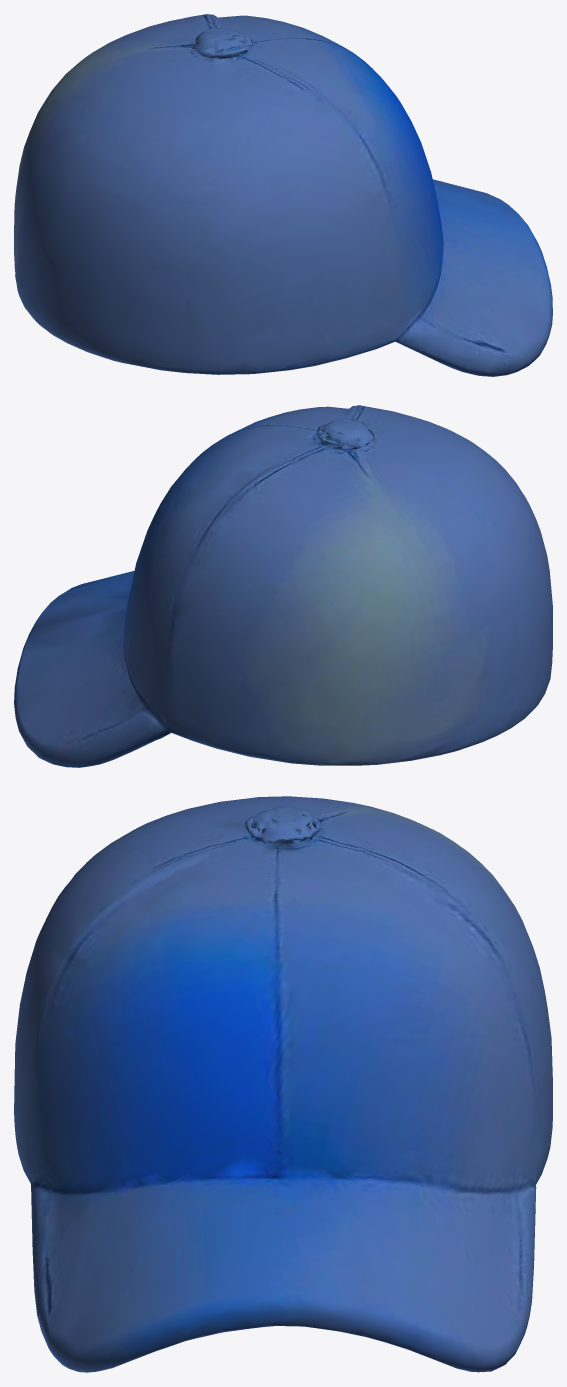
File: cap.glb
3 views of the same model, one above another, from view 1: azimuth 30°, elevation 25°; view 2: azimuth 150°, elevation 25°; view 3: azimuth 270°, elevation 25° (orthographic). The views are drawn at different scales.
Parts seen in each view (by area): view 1: tripo_node_8095c3db-6089-421a-9b56-d27c90321115; view 2: tripo_node_8095c3db-6089-421a-9b56-d27c90321115; view 3: tripo_node_8095c3db-6089-421a-9b56-d27c90321115.
Boxes of the visible parts, <box> form: tripo_node_8095c3db-6089-421a-9b56-d27c90321115: <box>14,14,552,376</box>; tripo_node_8095c3db-6089-421a-9b56-d27c90321115: <box>14,405,552,767</box>; tripo_node_8095c3db-6089-421a-9b56-d27c90321115: <box>14,796,552,1372</box>.
Bounding box in the file's own units: 1 × 0.6647 × 0.7787.
Materials: 1 (1 with a texture image).
